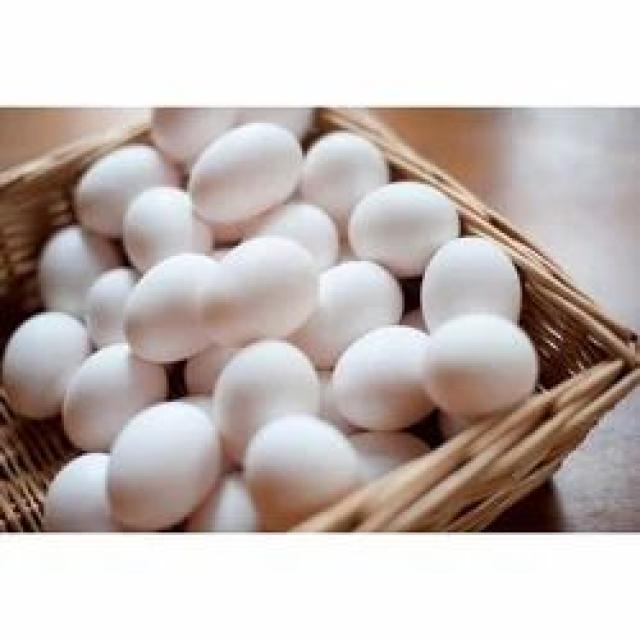Egg: (4, 122, 539, 529), (202, 236, 319, 463), (291, 261, 401, 369), (189, 124, 302, 224), (332, 326, 434, 431)
